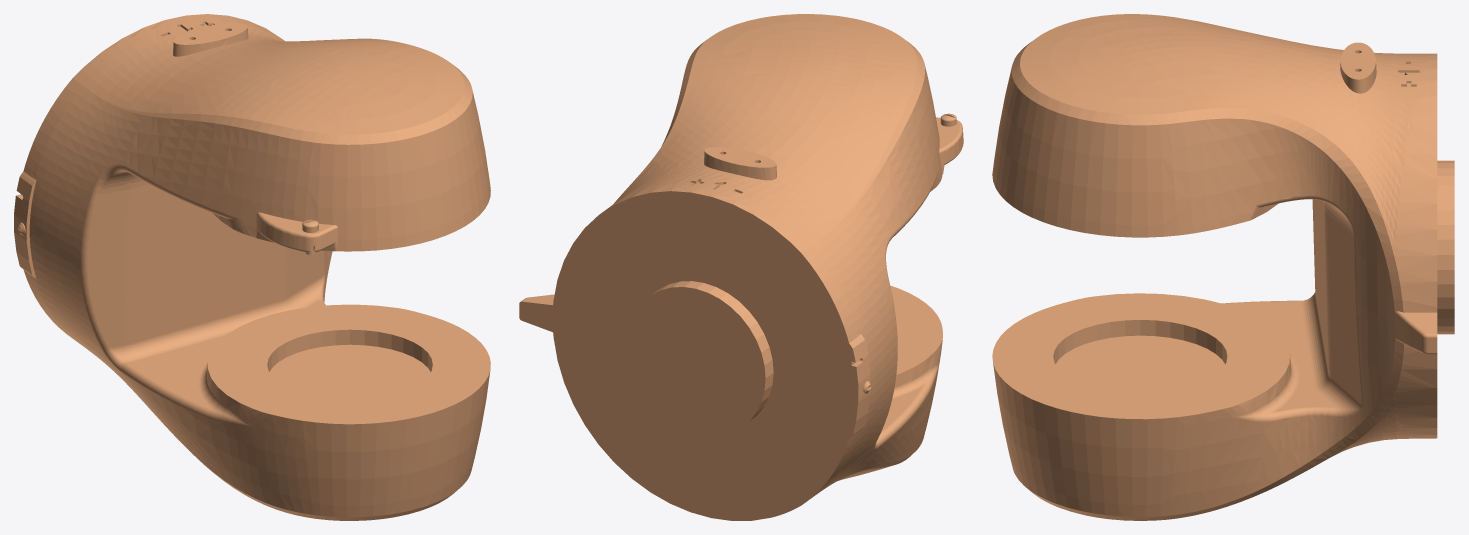
3 renders of one model, left to right at view 1: azimuth 30°, elevation 25°; view 2: azimuth 150°, elevation 25°; view 3: azimuth 270°, elevation 25°, orthographic. The views are drawn at different scales.
Visible parts, largest first — view 1: /Link1/Link1_002-mesh/0; view 2: /Link1/Link1_002-mesh/0; view 3: /Link1/Link1_002-mesh/0.
Part boxes in pixels (box(x1,y1,x2,y2)): /Link1/Link1_002-mesh/0: box(14, 14, 490, 520); /Link1/Link1_002-mesh/0: box(519, 14, 963, 520); /Link1/Link1_002-mesh/0: box(992, 14, 1454, 520).
Bounding box in the file's own units: 0.2459 × 0.2737 × 0.2653.
